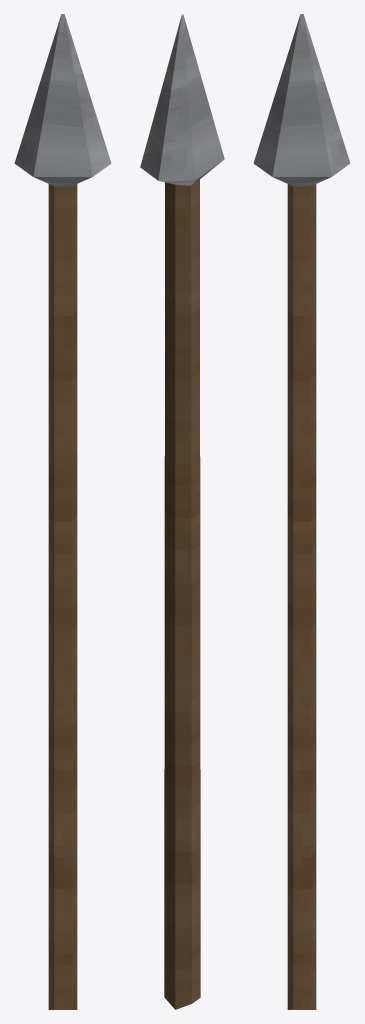
File: Spear.glb
3 renders of one model, left to right at view 1: azimuth 90°, elevation 25°; view 2: azimuth 150°, elevation 25°; view 3: azimuth 270°, elevation 25°, orthographic.
Visible parts, largest first — view 1: Cube.001; view 2: Cube.001; view 3: Cube.001.
Part boxes in pixels (x1,y1,x2,y2): Cube.001: (14,14,111,1009); Cube.001: (140,14,224,1009); Cube.001: (253,14,350,1009).
Bounding box in the file's own units: 1.55 × 26.64 × 2.35.
1 material, 1 textured.
